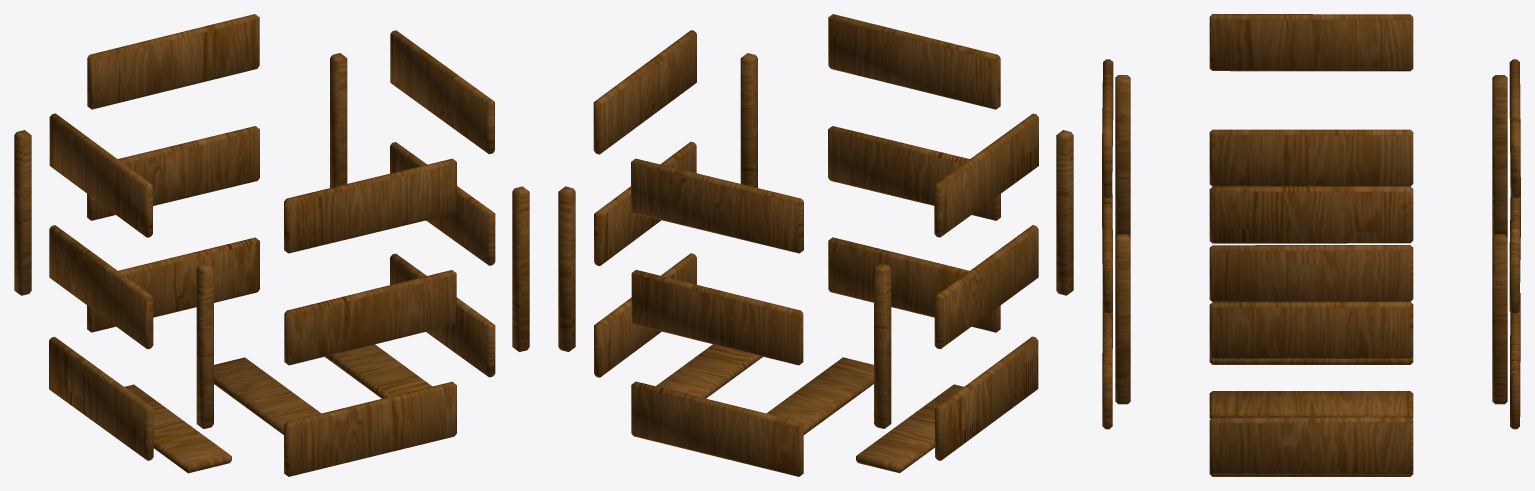
Rendered from crate.fbx.
3 views of the same model, side by side, from view 1: azimuth 30°, elevation 25°; view 2: azimuth 150°, elevation 25°; view 3: azimuth 270°, elevation 25° (orthographic). The views are drawn at different scales.
Parts seen in each view (by area): view 1: crate; view 2: crate; view 3: crate.
Boxes of the visible parts, x1,y1,x2,y2 form: crate: (14, 14, 529, 476); crate: (558, 14, 1073, 476); crate: (1102, 14, 1520, 476).
Size of the model in its own units: 0.4112 by 0.335 by 0.4111.
1 material, 1 textured.
